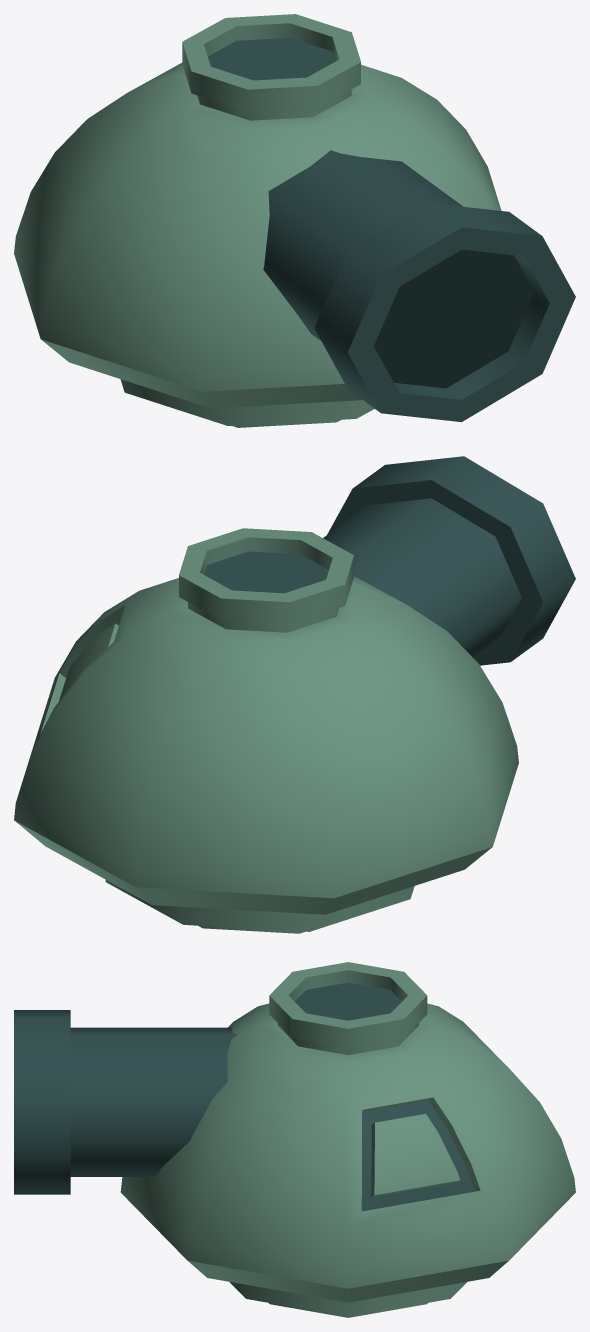
The model's file is tanque_cabeza.obj.
3 views of the same model, one above another, from view 1: azimuth 30°, elevation 25°; view 2: azimuth 150°, elevation 25°; view 3: azimuth 270°, elevation 25° (orthographic). The views are drawn at different scales.
Visible parts, largest first — view 1: Sphere, Cylinder.010; view 2: Sphere, Cylinder.010; view 3: Sphere, Cylinder.010.
Boxes of the visible parts, x1=… form: Sphere: x1=14, y1=14, x2=501, y2=427; Cylinder.010: x1=263, y1=150, x2=575, y2=422; Sphere: x1=14, y1=528, x2=518, y2=933; Cylinder.010: x1=323, y1=456, x2=575, y2=665; Sphere: x1=120, y1=962, x2=575, y2=1317; Cylinder.010: x1=14, y1=1010, x2=236, y2=1194.
Size of the model in its own units: 4.61 by 3.08 by 5.7.
Materials: 1 (1 with a texture image).
